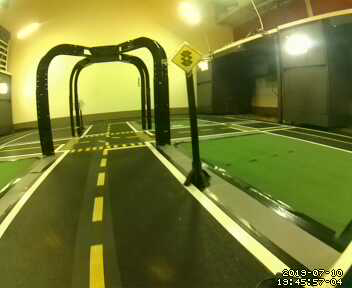Traffic light sign: (173, 43, 200, 70)
